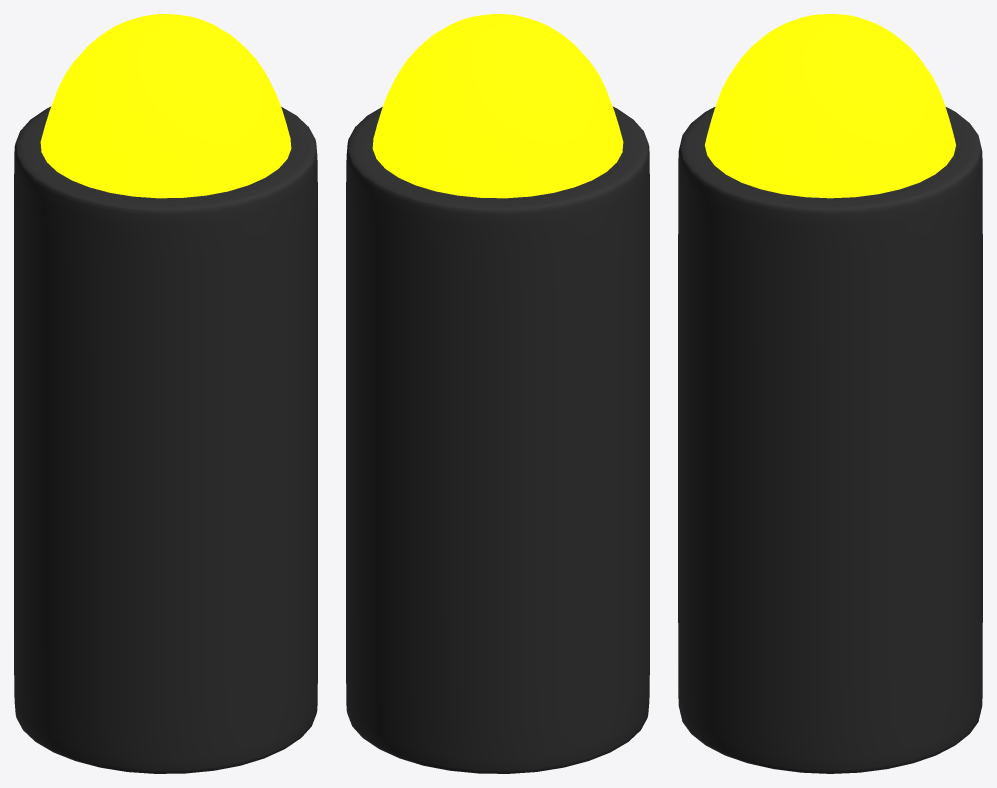
The model's file is Interruptor2.fbx.
The picture shows the model from 3 angles, left to right: view 1: azimuth 30°, elevation 25°; view 2: azimuth 150°, elevation 25°; view 3: azimuth 270°, elevation 25°; orthographic projection.
Parts seen in each view (by area): view 1: Cylinder, Sphere; view 2: Cylinder, Sphere; view 3: Cylinder, Sphere.
Part boxes in pixels (x1=…): Cylinder: x1=14, y1=106, x2=317, y2=773; Sphere: x1=40, y1=14, x2=291, y2=198; Cylinder: x1=346, y1=106, x2=649, y2=773; Sphere: x1=372, y1=14, x2=623, y2=198; Cylinder: x1=678, y1=107, x2=982, y2=773; Sphere: x1=705, y1=14, x2=955, y2=198.
Bounding box in the file's own units: 219 × 543 × 219.
